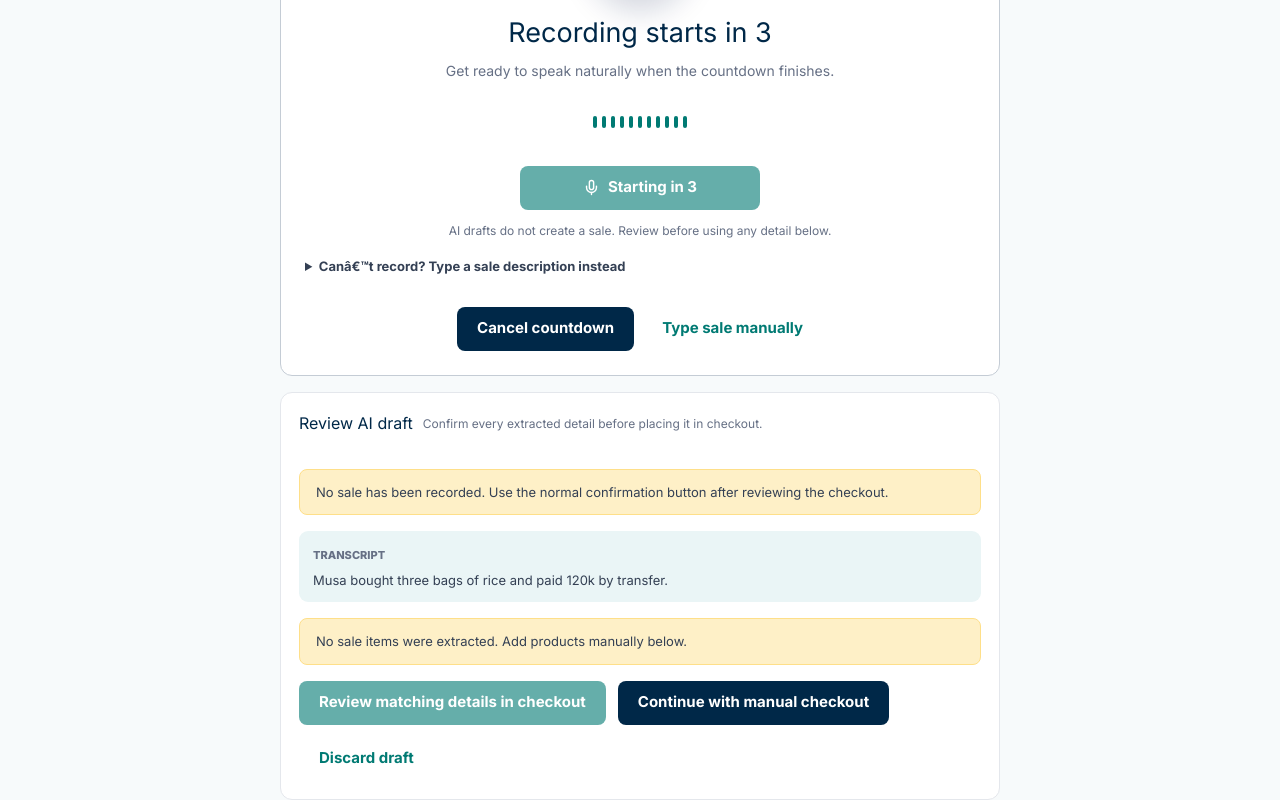
Test: prepares a non-persisted voice draft before it changes checkout
Earlier steps of the test are not shown.
(page scrolled)
Expected: the heading "Review AI draft" is shown, [299,411,413,435]
Expected: the text "No sale has been recorded. Use the normal confirmation button after reviewing the checkout." is shown, [316,484,889,500]
Click the button "Continue with manual checkout" at {"x": 753, "y": 702}, box [618,680,889,724]
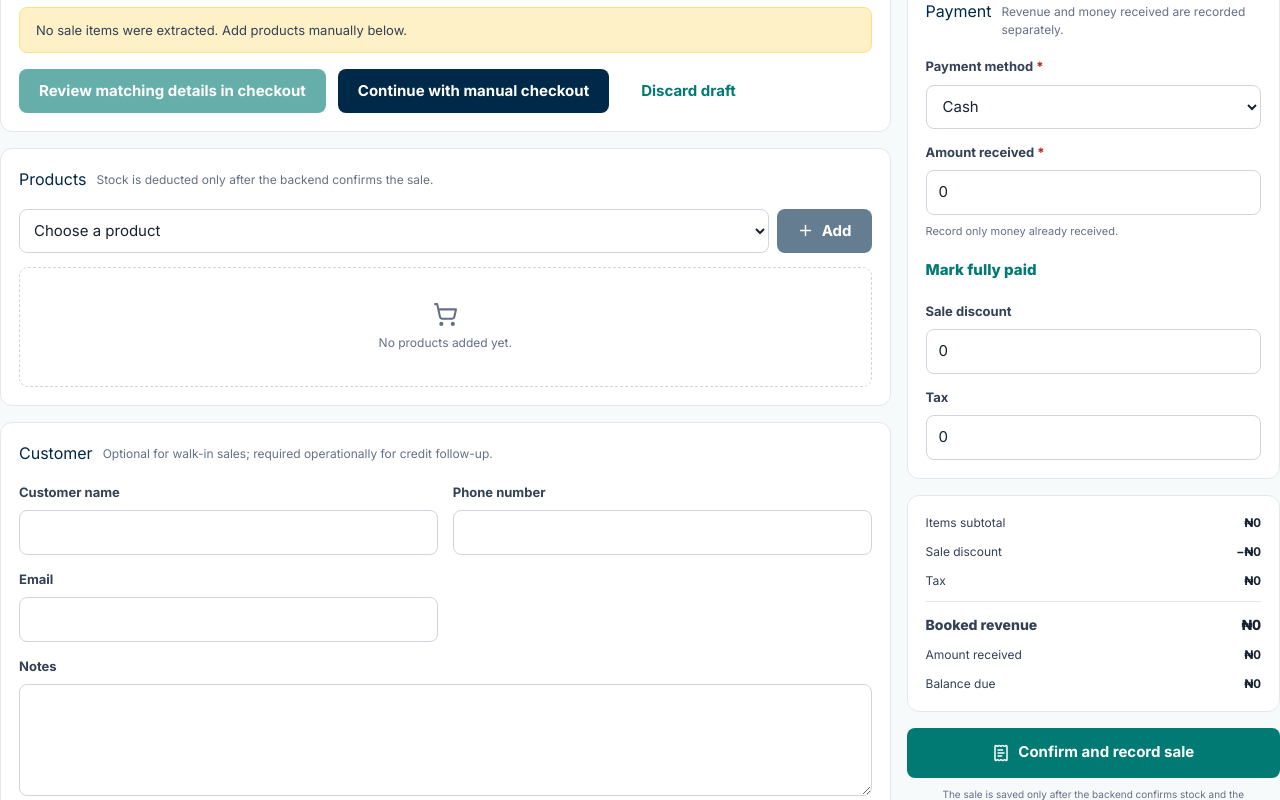
Now the text "Booked revenue" is shown, box [926,614,1037,634]
